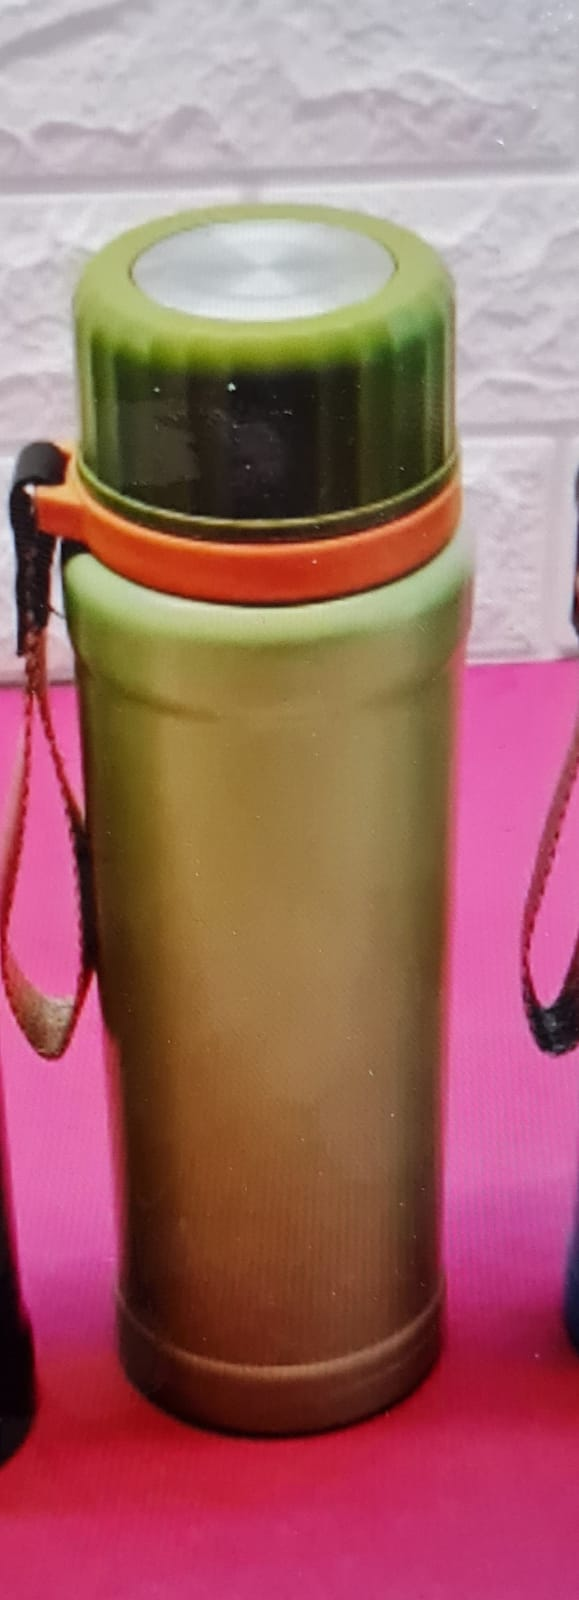bottle: (14, 177, 527, 1450)
